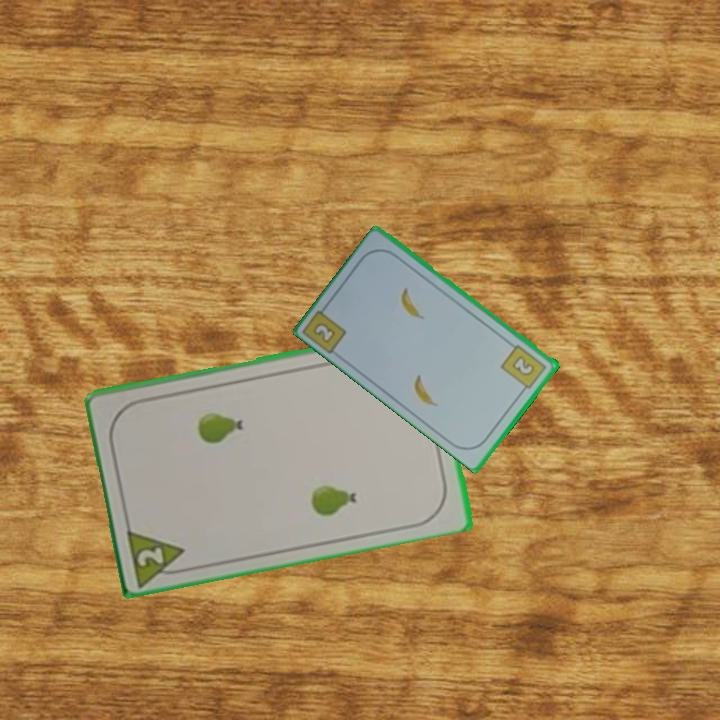2b: (301, 299, 350, 356), (498, 341, 549, 395)
2p: (123, 522, 193, 587)
